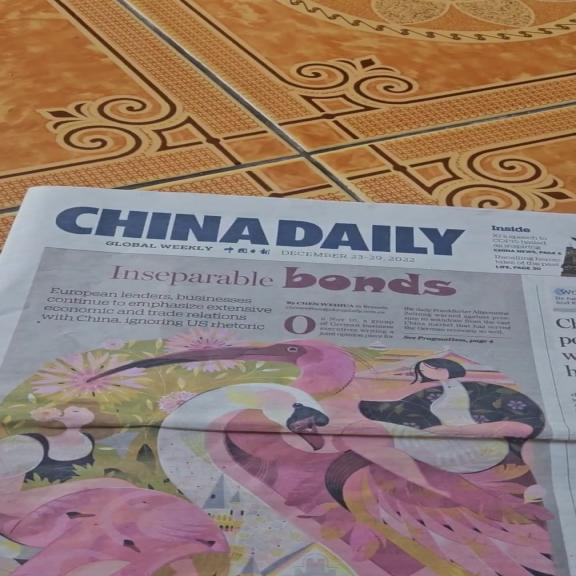Kertas: (2, 214, 576, 567)
